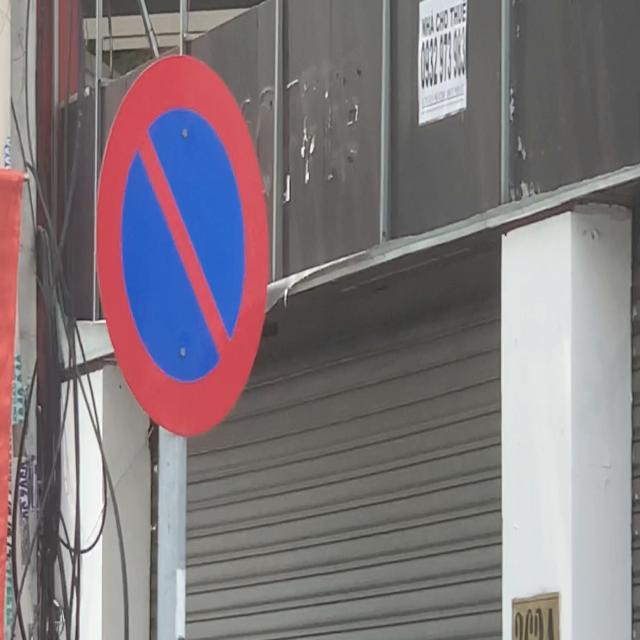Cam do: (94, 51, 271, 440)
